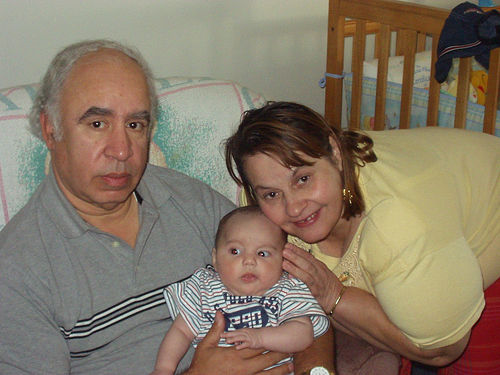without_mask: (42, 83, 154, 207), (255, 137, 348, 240), (212, 209, 289, 299)
